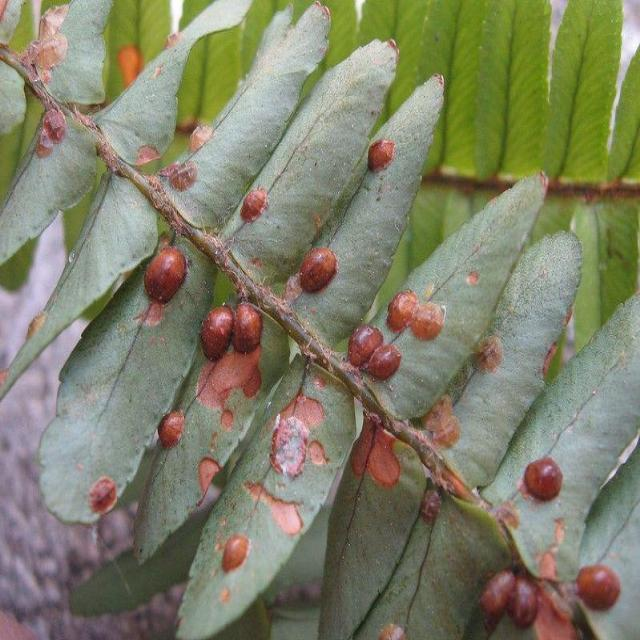BlackScale: (479, 568, 541, 628), (200, 302, 262, 361), (22, 5, 68, 72), (386, 290, 445, 340), (348, 326, 400, 380), (143, 243, 189, 304), (574, 566, 618, 612), (522, 457, 563, 502), (301, 248, 337, 294), (366, 136, 396, 174), (472, 338, 503, 374), (90, 476, 118, 515), (221, 540, 250, 575), (240, 190, 268, 223), (158, 410, 181, 449), (168, 159, 196, 191), (418, 488, 441, 524), (43, 108, 65, 145)
